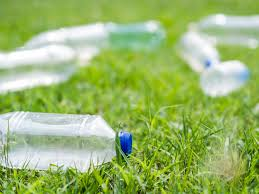plastic_bottle: (1, 109, 137, 175)
